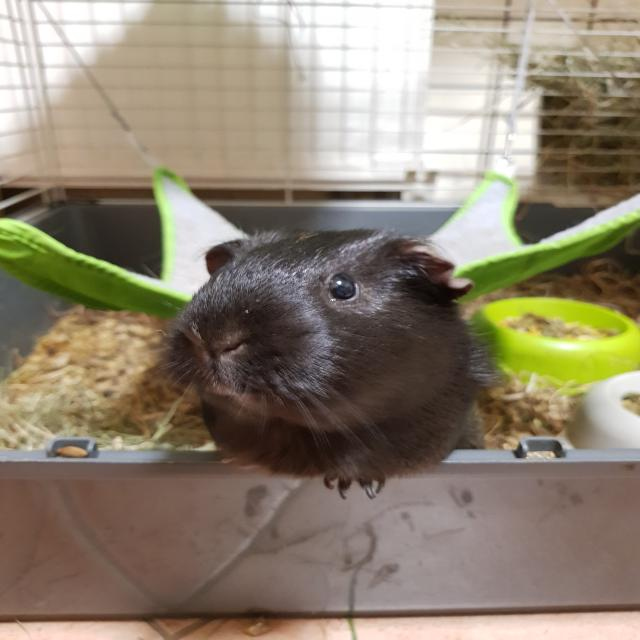guinea pig: (160, 227, 492, 500)
